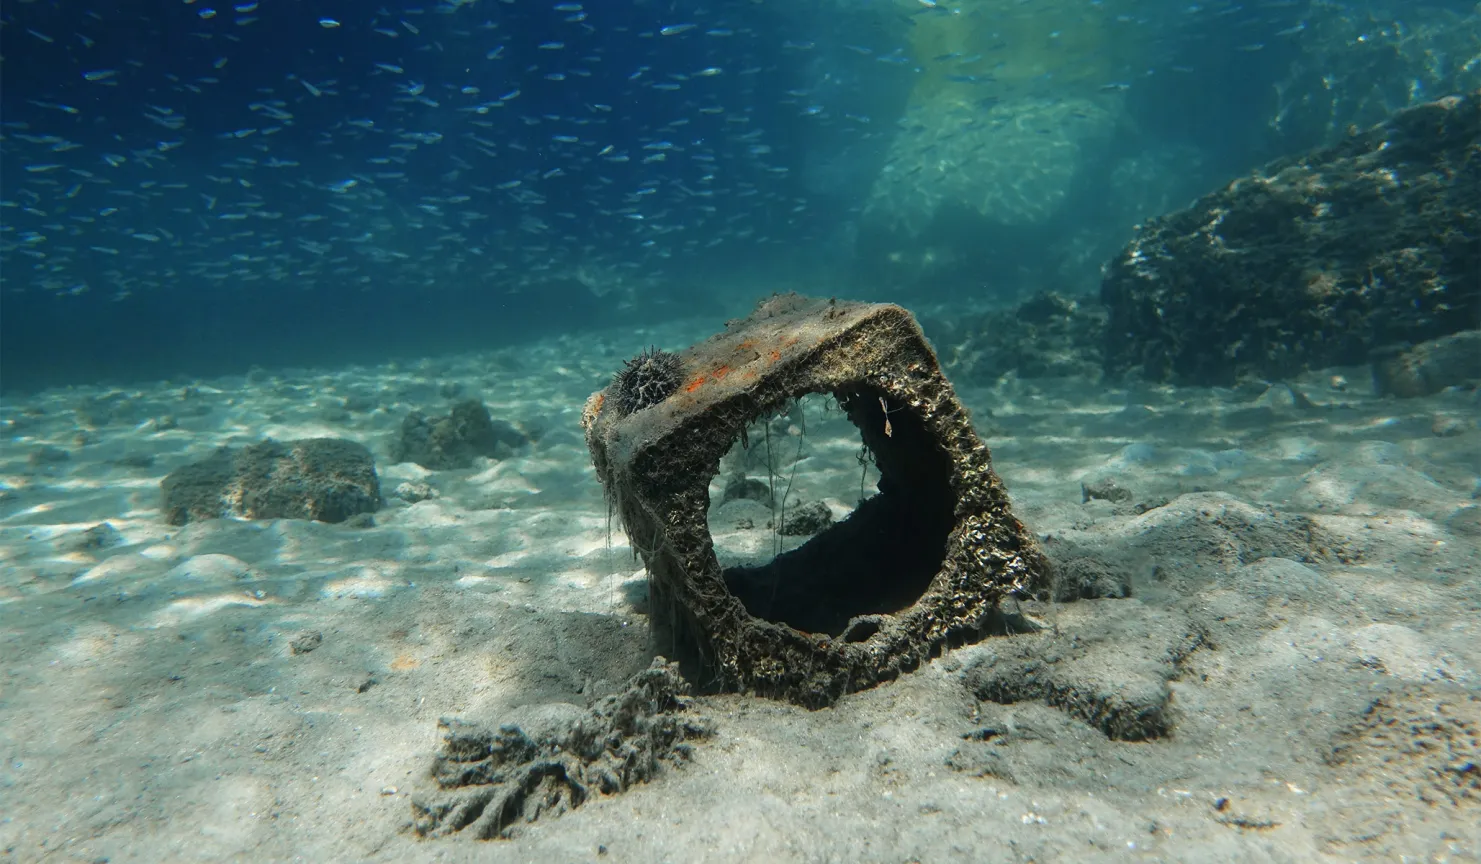Metal: (588, 288, 1050, 713)
